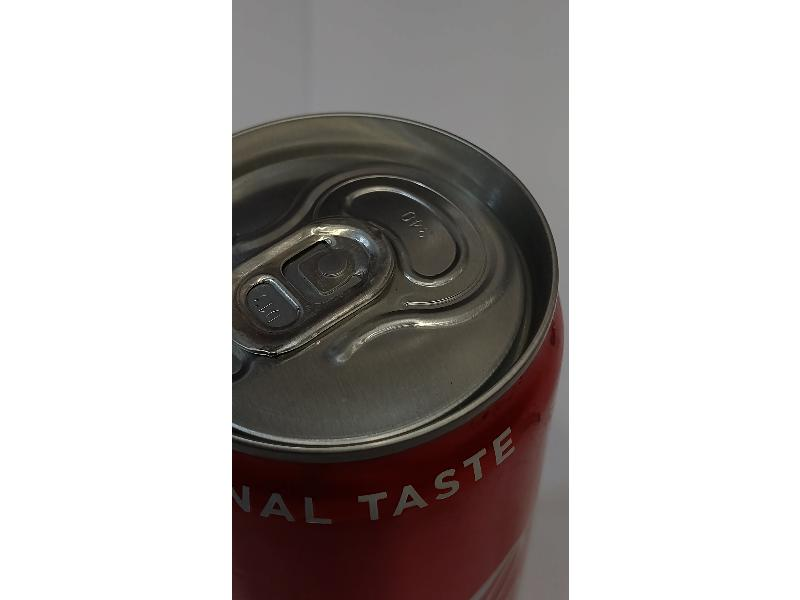can: (233, 105, 566, 589)
